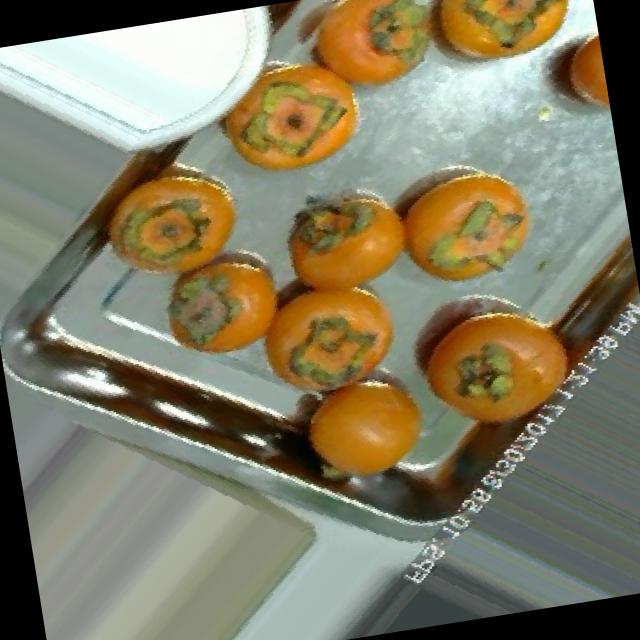Fruit: (379, 268, 602, 464), (44, 132, 270, 316), (367, 141, 566, 313), (194, 34, 392, 202), (274, 350, 458, 490), (540, 17, 614, 135)
